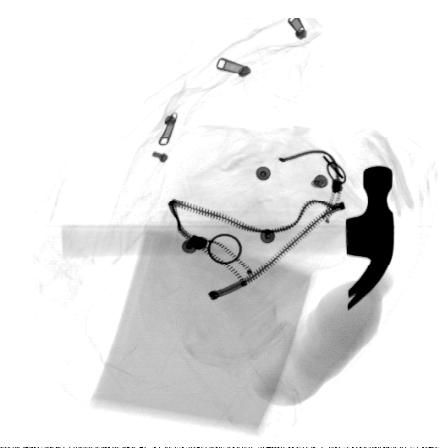Hammer: (60, 164, 394, 311)
